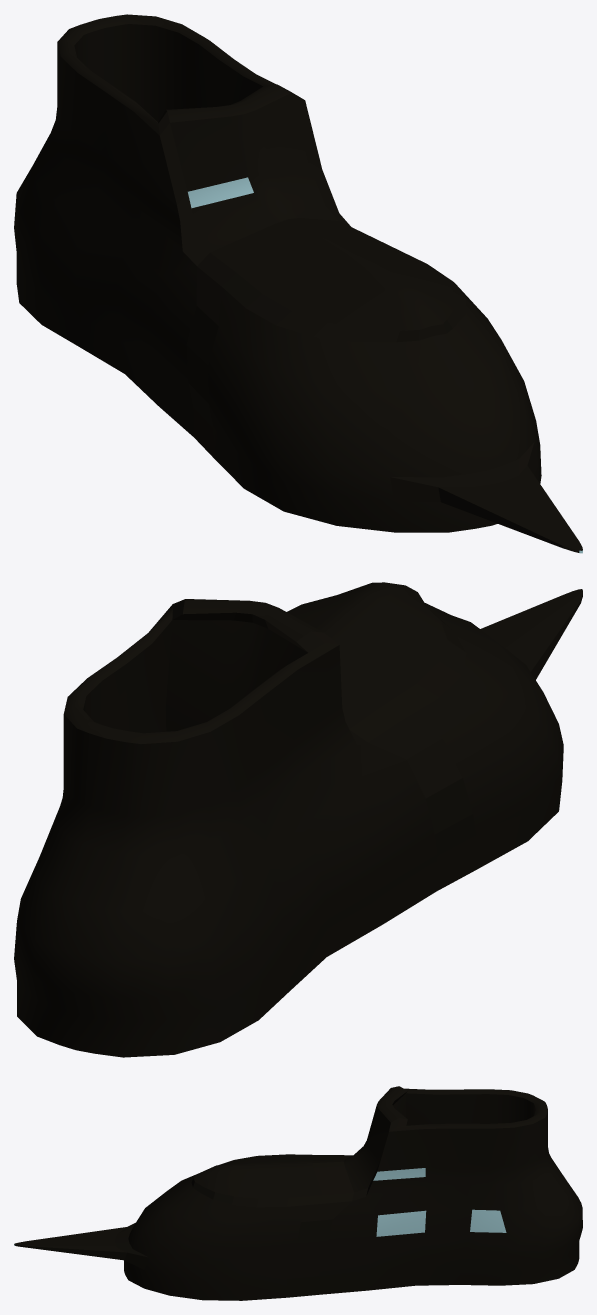
The model's file is LeftShoe.fbx.
The picture shows the model from 3 angles, top to bottom: view 1: azimuth 30°, elevation 25°; view 2: azimuth 150°, elevation 25°; view 3: azimuth 270°, elevation 25°; orthographic projection. The views are drawn at different scales.
Visible parts, largest first — view 1: Shoe_R001; view 2: Shoe_R001; view 3: Shoe_R001.
Part boxes in pixels (box(x1,y1,x2,y2)): Shoe_R001: box(14, 14, 582, 553); Shoe_R001: box(14, 582, 582, 1057); Shoe_R001: box(14, 1086, 582, 1300).
Bounding box in the file's own units: 26.74 × 26.77 × 86.92.
